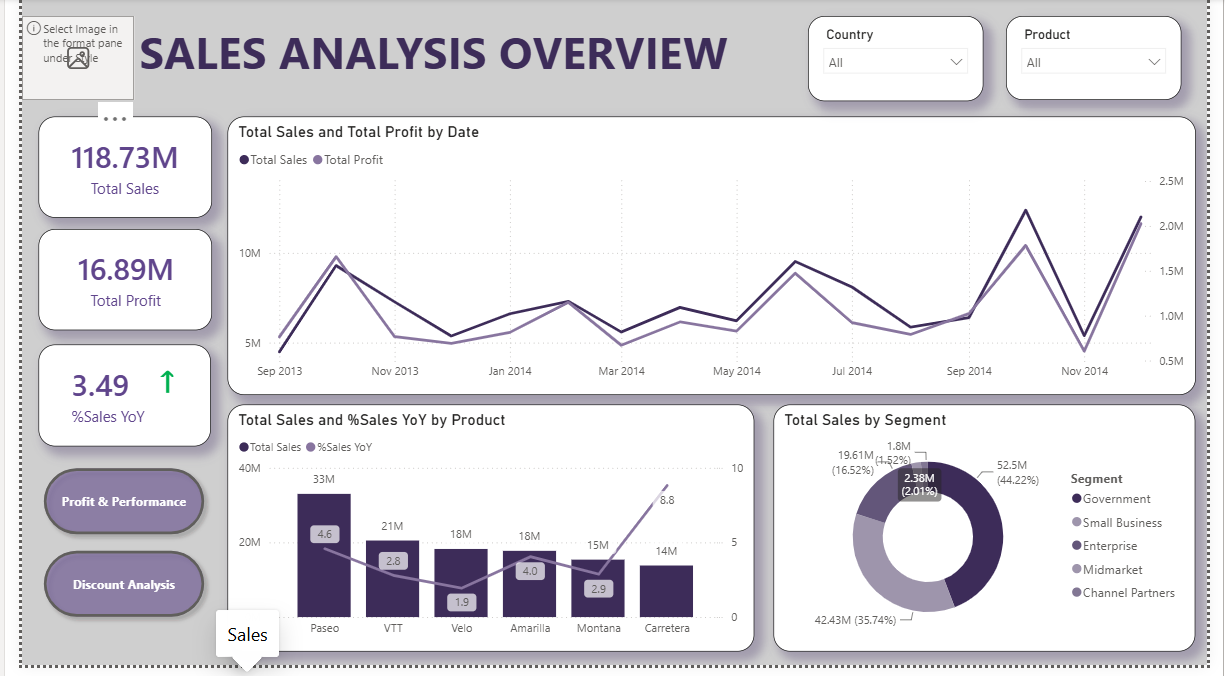

What the dashboard file says about the page in this screenshot:
{"tool":"powerbi","page":{"name":"Sales","canvas":[1280,720],"ordinal":0},"visuals":[{"type":"cardVisual","fields":{"Data":["Fact.Total Sales"]},"box":[17,128.5,187.1,109.6],"z":0},{"type":"cardVisual","fields":{"Data":["Fact.Total Profit"]},"box":[17,249.5,187.1,109.6],"z":1000},{"type":"cardVisual","fields":{"Data":["Fact.%Sales YoY"]},"box":[17.8,374,186.2,110.1],"z":2000},{"type":"lineChart","fields":{"Category":["Fact.Date"],"Y":["Sum(Fact. Sales)"],"Y2":["Sum(Fact.Profit)"]},"box":[221.1,128.5,1045,300.5],"z":3000},{"type":"donutChart","fields":{"Category":["Fact.Segment"],"Y":["Sum(Fact. Sales)"]},"box":[810.7,438.4,455.4,266.5],"z":4000},{"type":"lineStackedColumnComboChart","fields":{"Category":["Product_Dim.Product"],"Y":["Sum(Fact. Sales)"],"Y2":["Fact.Sales YoY %"]},"box":[221.1,438.4,568.8,266.5],"z":5000},{"type":"slicer","fields":{"Values":["Country_Dim.Country"]},"box":[848.5,19.4,189.4,92.3],"z":6000},{"type":"slicer","fields":{"Values":["Fact.Product"]},"box":[1062.2,19.4,189.4,90.7],"z":7000},{"type":"textbox","box":[121.4,19.4,689.8,100.4],"z":8000},{"type":"actionButton","box":[14.6,498.7,191.1,89.1],"z":9000},{"type":"actionButton","box":[14.6,587.8,191.1,89.1],"z":10000},{"type":"image","box":[0,19.4,121.4,90.7],"z":11000},{"type":"cardVisual","fields":{"Data":["Fact.Arrow"]},"box":[121.4,390.2,66.4,48.6],"z":12000}]}

Visuals, with their boxes in screenshot pixels (x1, y1, x2, y2), scaled from the page's 1280x720 canvas onto the 1225x676 screenshot:
cardVisual - Fact.Total Sales: crop(16, 121, 195, 224)
cardVisual - Fact.Total Profit: crop(16, 234, 195, 337)
cardVisual - Fact.%Sales YoY: crop(17, 351, 195, 455)
lineChart - Fact.Date x Sum(Fact. Sales): crop(212, 121, 1212, 403)
donutChart - Fact.Segment x Sum(Fact. Sales): crop(776, 412, 1212, 662)
lineStackedColumnComboChart - Product_Dim.Product x Sum(Fact. Sales): crop(212, 412, 756, 662)
slicer - Country_Dim.Country: crop(812, 18, 993, 105)
slicer - Fact.Product: crop(1017, 18, 1198, 103)
textbox: crop(116, 18, 776, 112)
actionButton: crop(14, 468, 197, 552)
actionButton: crop(14, 552, 197, 636)
image: crop(0, 18, 116, 103)
cardVisual - Fact.Arrow: crop(116, 366, 180, 412)
